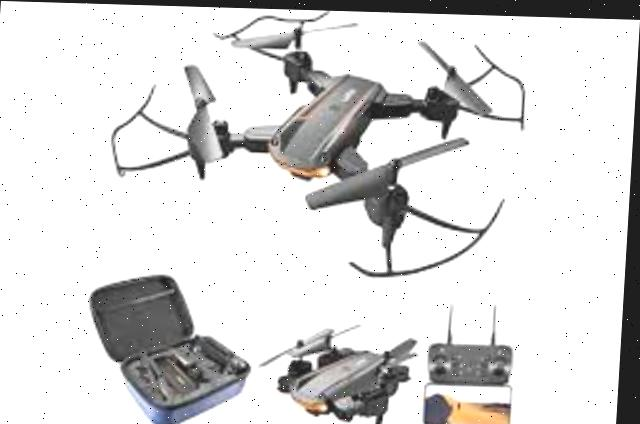drone: (85, 3, 558, 292)
